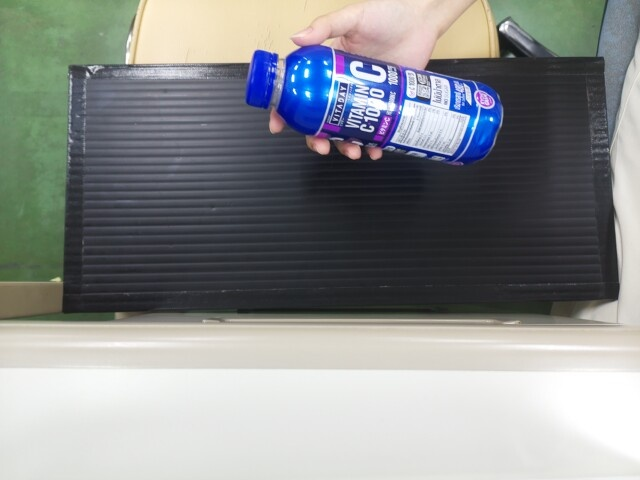plastic_bottle: (242, 42, 501, 166)
